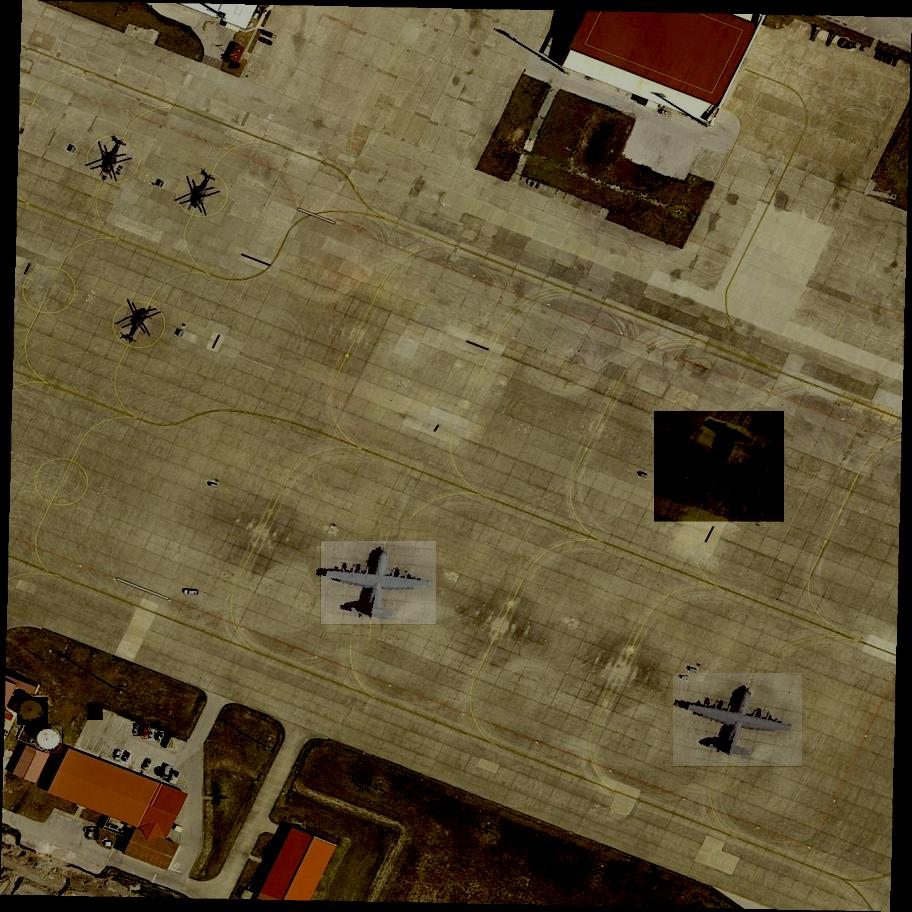large-vehicle: (163, 766, 173, 780)
plane: (654, 412, 784, 524), (673, 673, 802, 770), (321, 541, 437, 625)
small-vehicle: (87, 704, 104, 722), (141, 759, 155, 774), (161, 733, 174, 749), (87, 825, 99, 842), (121, 750, 132, 765), (133, 723, 143, 736), (184, 588, 200, 596), (141, 725, 150, 739), (114, 749, 123, 762), (157, 732, 166, 743), (148, 729, 156, 741)
storage-tank: (17, 697, 49, 726), (37, 726, 65, 754)
